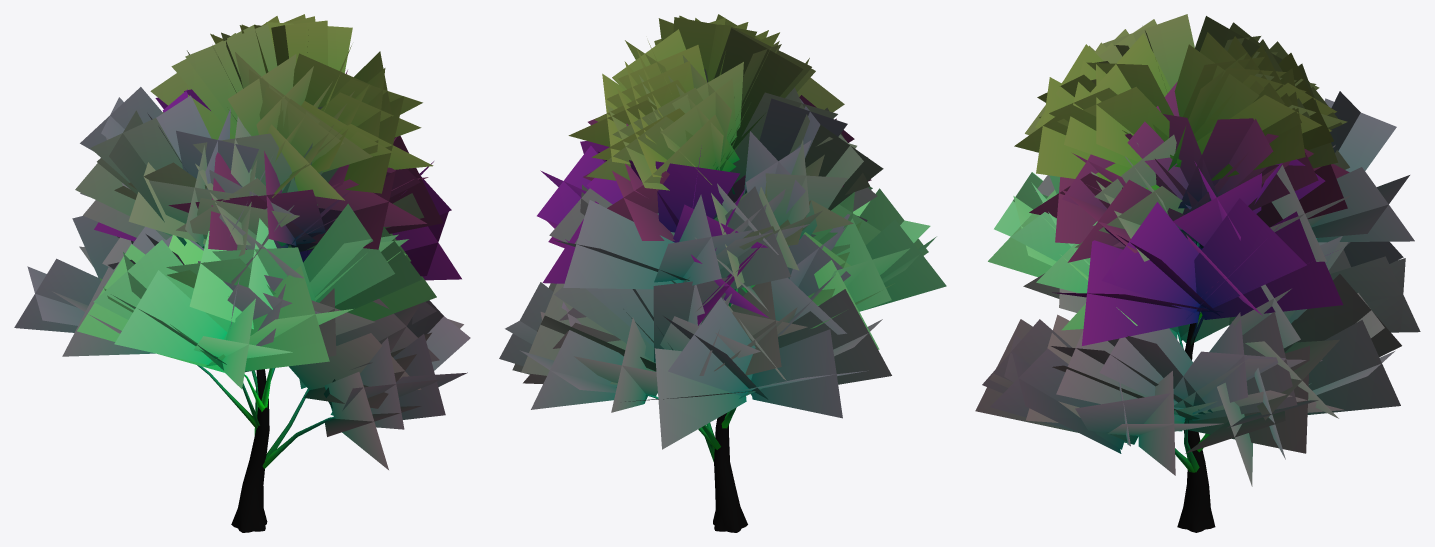
The model's file is Tree_8_3.fbx.
3 renders of one model, left to right at view 1: azimuth 30°, elevation 25°; view 2: azimuth 150°, elevation 25°; view 3: azimuth 270°, elevation 25°, orthographic. The views are drawn at different scales.
Parts seen in each view (by area): view 1: _6; view 2: _6; view 3: _6.
Part boxes in pixels (x1,y1,x2,y2): _6: (14,14,470,532); _6: (499,14,946,532); _6: (975,14,1420,532).
Bounding box in the file's own units: 961 × 1205 × 957.
